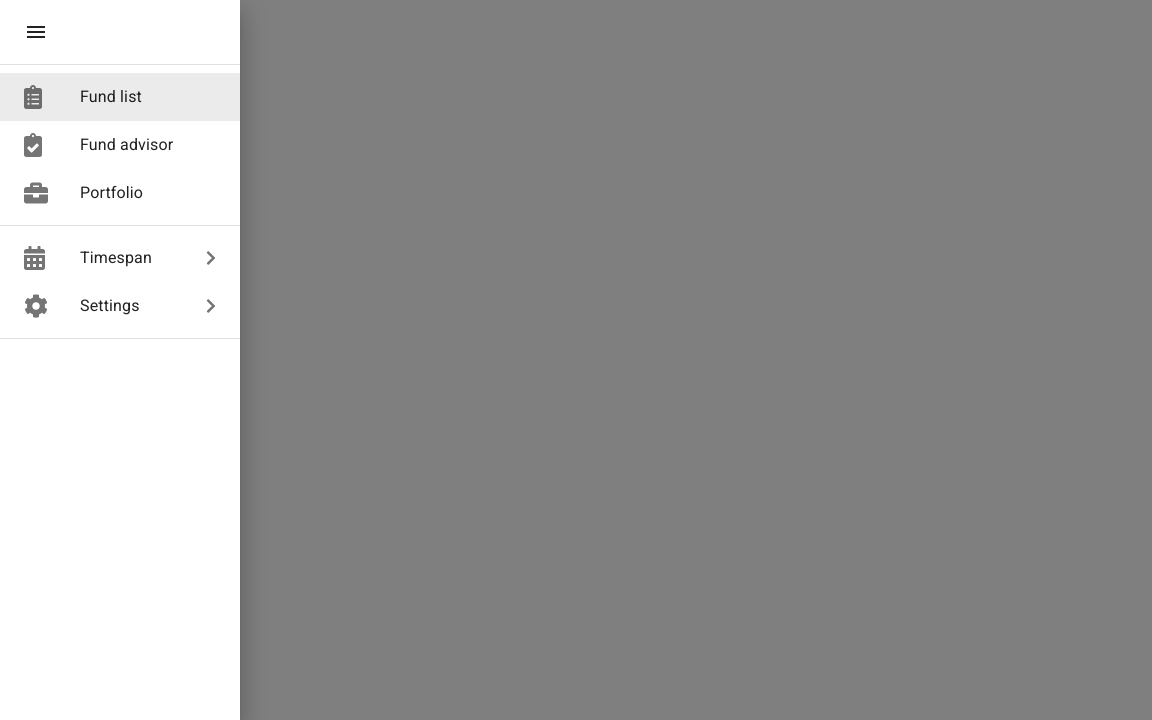
Scenario: Drawer › Expands timespan settings when the timespan settings button is clicked
The image size is (1152, 720).
Click the button with id "Timespan-header" at (120, 258), box [24,246,216,270]
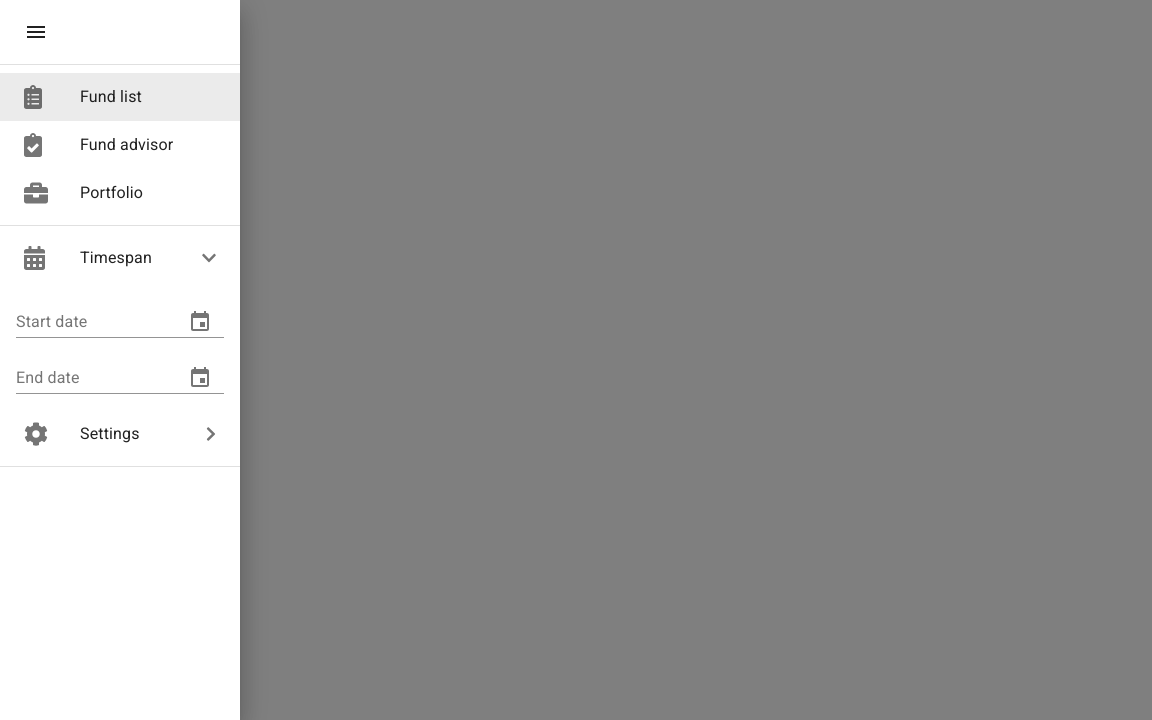
Now the element with id "Timespan-content" is shown, box [0,290,240,394]
